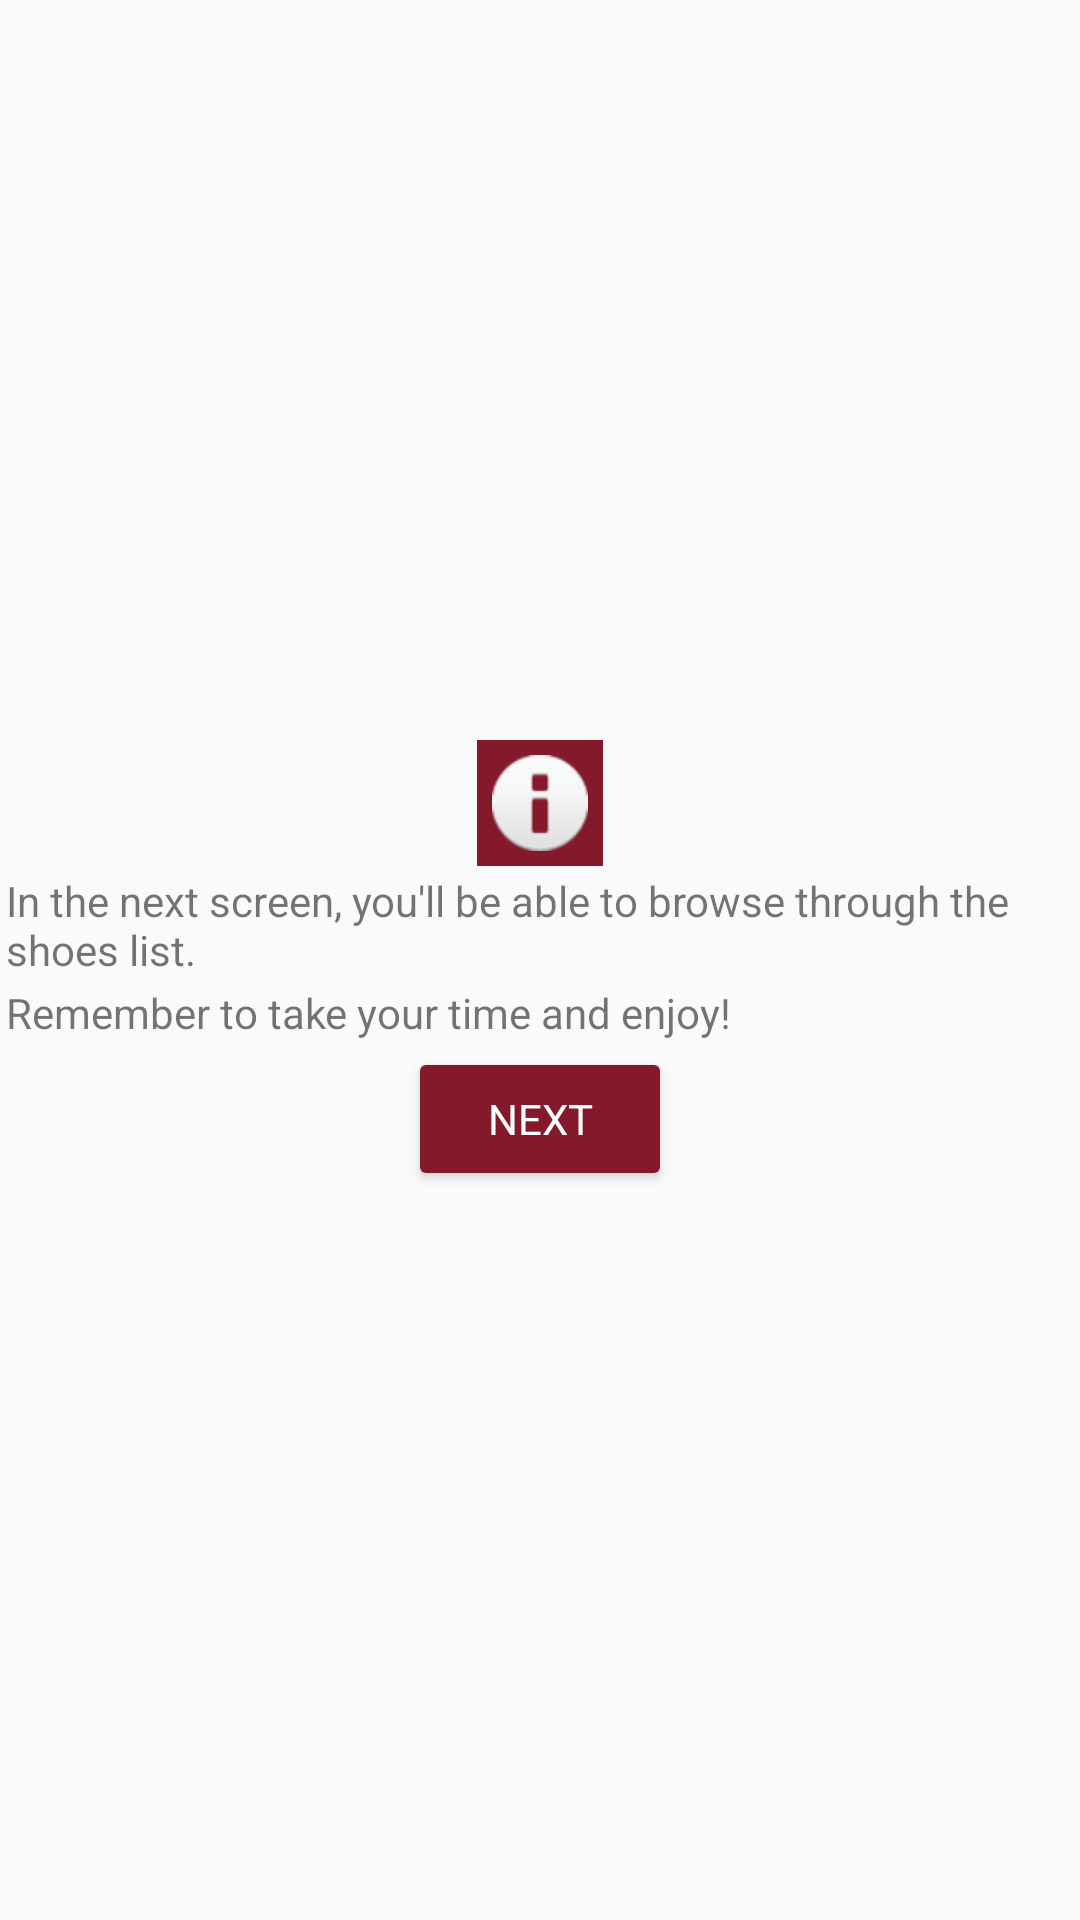

Where icons sit on this 1080 × 1920 app screen, as (x1, y1, x2, y2):
info: (477, 740, 603, 866)
